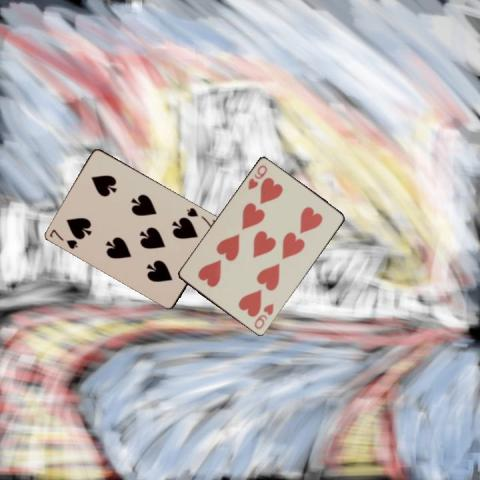7s: (47, 226, 79, 251), (184, 204, 217, 228)
9h: (252, 300, 276, 331), (244, 162, 269, 191)
